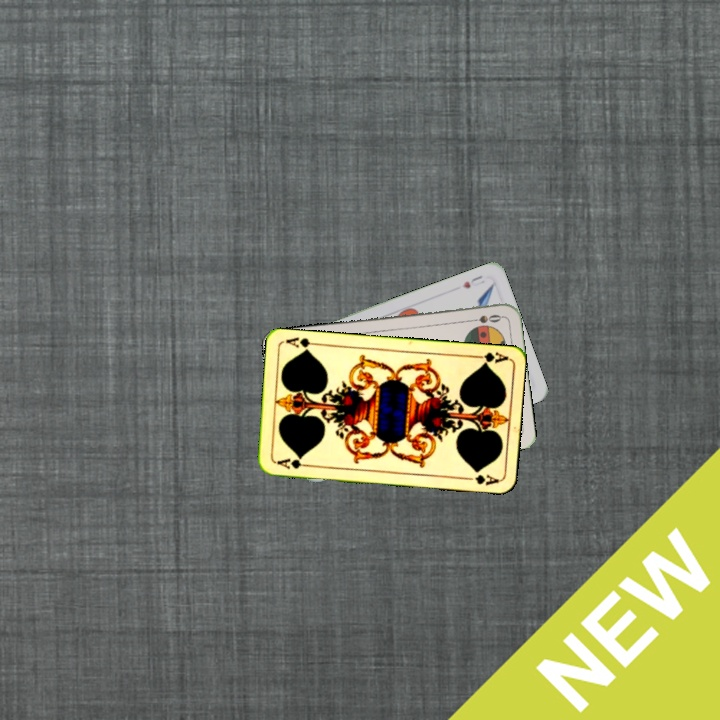GA: (469, 348, 510, 367), (272, 454, 312, 471)
HU: (458, 271, 485, 291)
SO: (464, 310, 505, 326)
